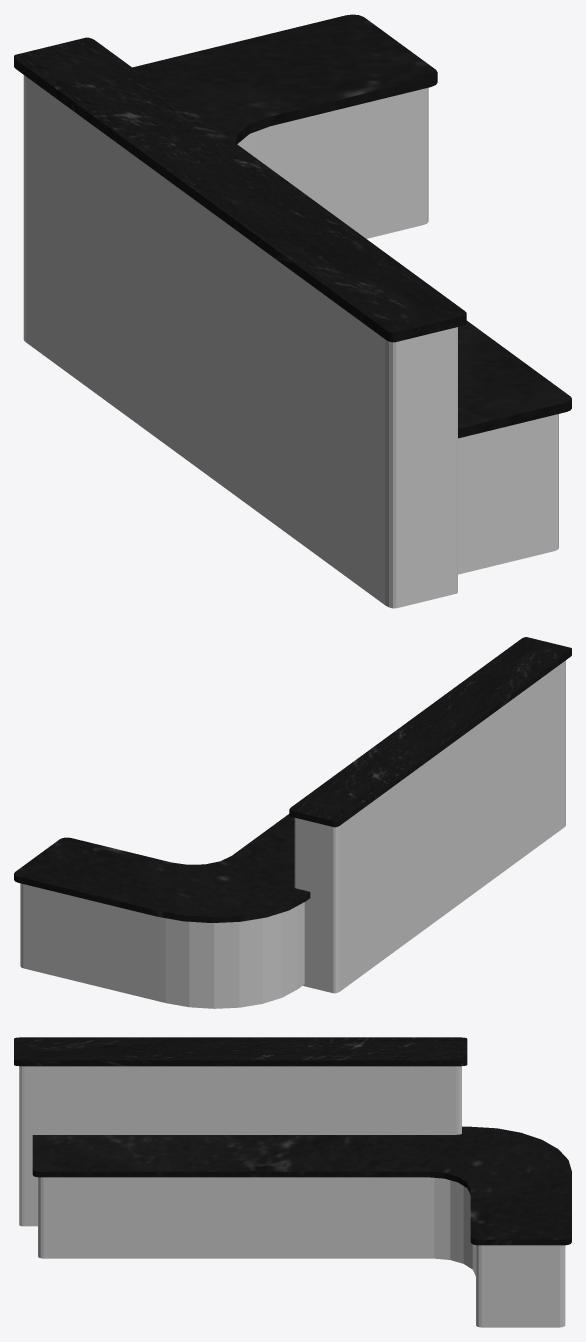
File: balcaopintado.fbx
The picture shows the model from 3 angles, top to bottom: view 1: azimuth 30°, elevation 25°; view 2: azimuth 150°, elevation 25°; view 3: azimuth 270°, elevation 25°; orthographic projection. The views are drawn at different scales.
Visible parts, largest first — view 1: Cube.001, Cube; view 2: Cube.001, Cube; view 3: Cube, Cube.001.
Part boxes in pixels (box(x1,y1,x2,y2)): Cube.001: box(14, 37, 466, 608); Cube: box(132, 14, 571, 574); Cube.001: box(289, 637, 571, 993); Cube: box(14, 814, 310, 1008); Cube: box(32, 1126, 571, 1327); Cube.001: box(14, 1037, 467, 1226).
Size of the model in its own units: 102 by 62.63 by 189.
